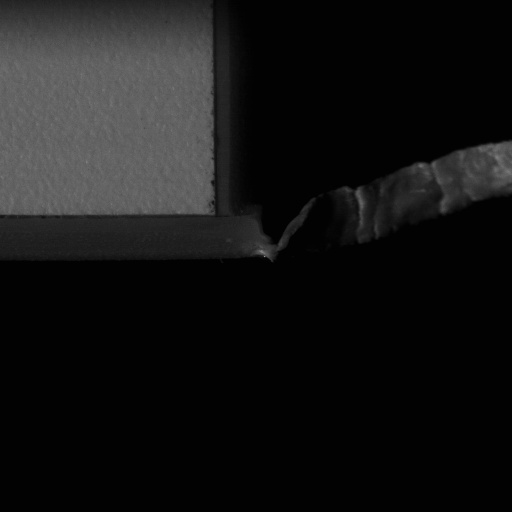changdai: (214, 140, 511, 267)
